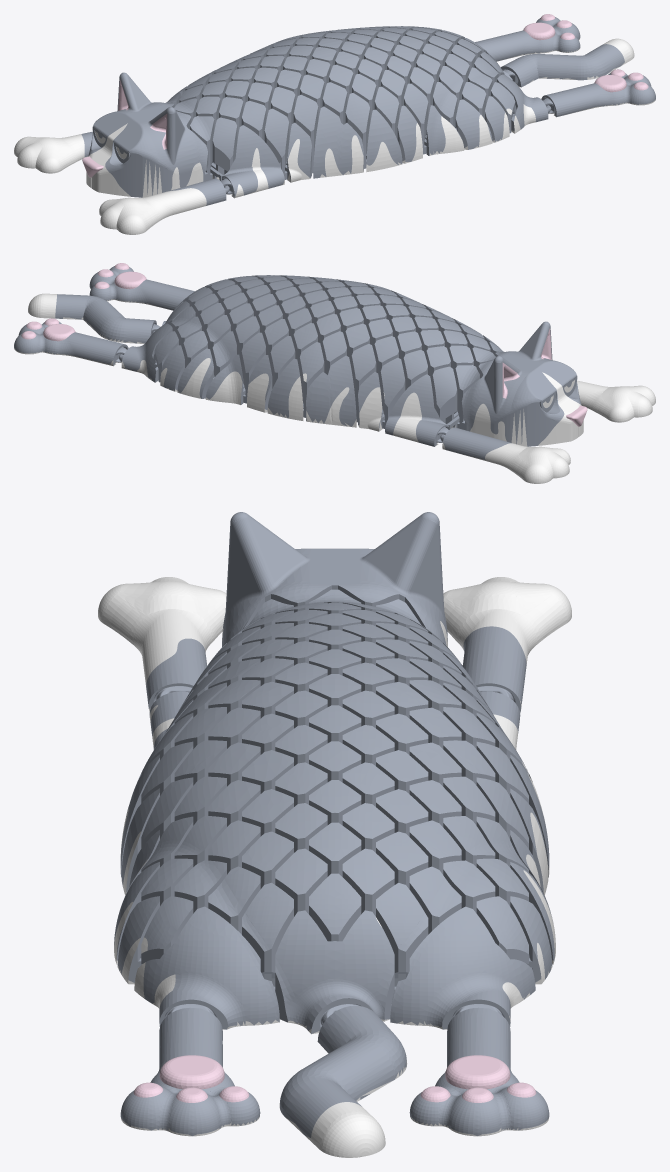
Rendered from gato_flexi_2.glb.
3 renders of one model, top to bottom at view 1: azimuth 30°, elevation 25°; view 2: azimuth 150°, elevation 25°; view 3: azimuth 270°, elevation 25°, orthographic. The views are drawn at different scales.
Parts seen in each view (by area): view 1: gris, blanco, rosado; view 2: gris, blanco, rosado; view 3: gris, blanco, rosado.
Boxes of the visible parts, x1,y1,x2,y2 form: gris: [81, 17, 655, 205]; blanco: [14, 38, 655, 234]; rosado: [82, 14, 648, 177]; gris: [14, 266, 581, 459]; blanco: [14, 288, 655, 483]; rosado: [21, 263, 587, 426]; gris: [114, 512, 554, 1137]; blanco: [98, 577, 571, 1157]; rosado: [133, 1055, 536, 1102].
Size of the model in its own units: 0.2227 by 0.0324 by 0.0795.
